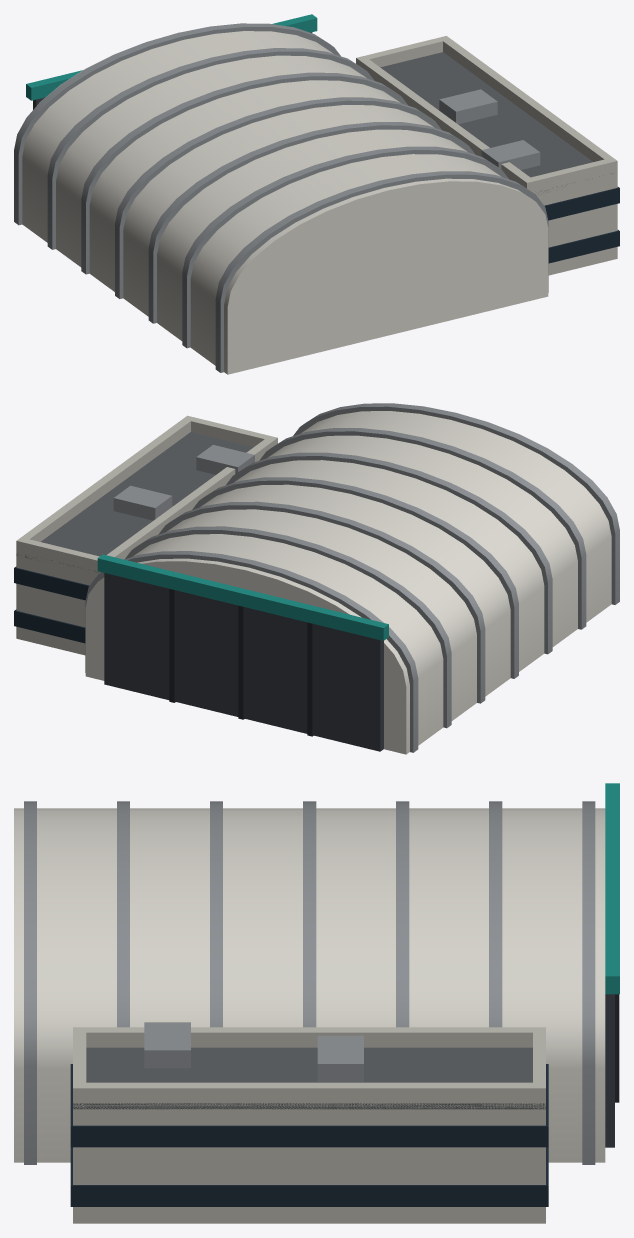
The model's file is hangar_1.glb.
3 renders of one model, top to bottom at view 1: azimuth 30°, elevation 25°; view 2: azimuth 150°, elevation 25°; view 3: azimuth 270°, elevation 25°, orthographic. The views are drawn at different scales.
Visible parts, largest first — view 1: Hangar; view 2: Hangar; view 3: Hangar.
Part boxes in pixels (x1,y1,x2,y2): Hangar: (14, 14, 619, 374); Hangar: (14, 403, 619, 754); Hangar: (14, 783, 619, 1223).
Size of the model in its own units: 40.5 by 13.85 by 36.9.
